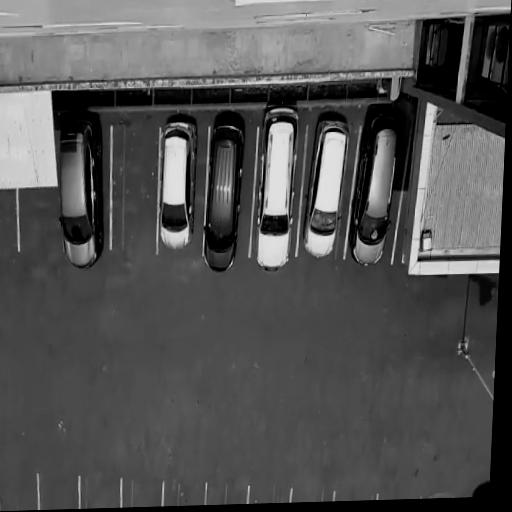Car: (52, 115, 108, 267), (249, 104, 298, 273), (348, 108, 398, 269), (300, 106, 351, 262), (201, 115, 247, 281), (154, 116, 198, 251)
Space Available: (104, 118, 165, 255), (19, 189, 62, 256), (76, 470, 122, 508), (36, 474, 82, 510), (0, 473, 41, 511), (204, 476, 249, 505), (121, 479, 164, 505), (246, 481, 293, 504), (0, 189, 17, 252), (163, 481, 204, 505), (289, 482, 334, 501), (333, 488, 379, 500)
